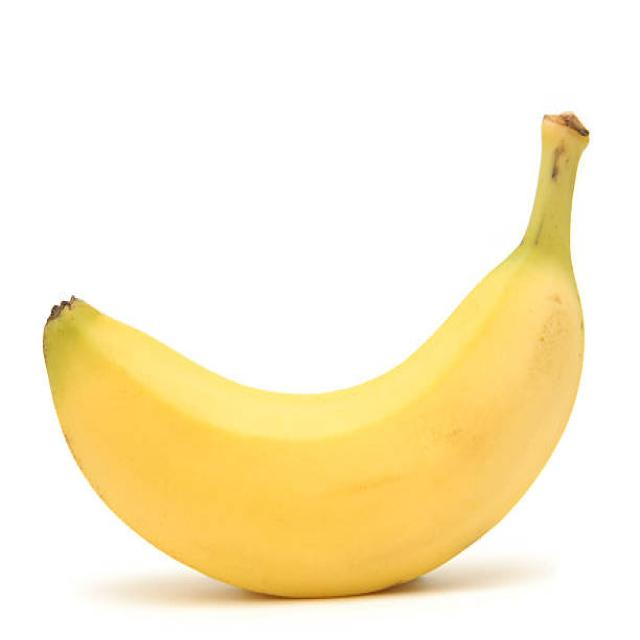Ripe: (38, 110, 596, 601)
